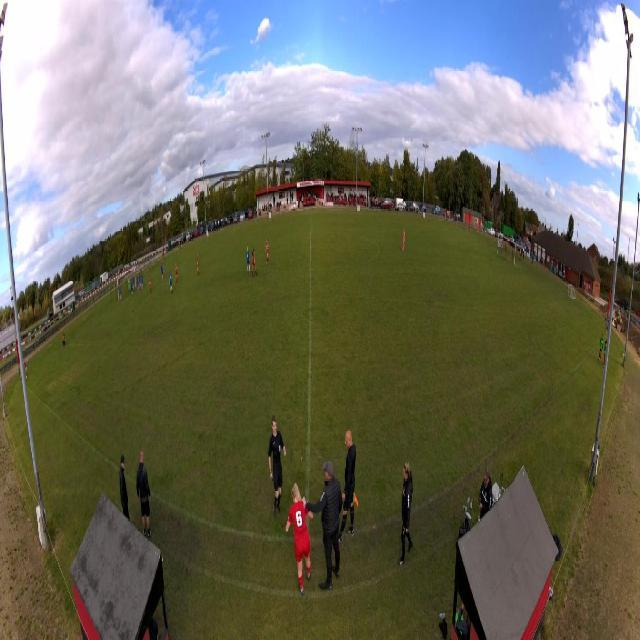ball: (26, 374, 27, 379)
player: (268, 411, 288, 519), (252, 248, 258, 279), (246, 245, 251, 275), (265, 237, 270, 264), (169, 268, 173, 295), (196, 252, 200, 276), (402, 228, 406, 252), (148, 274, 152, 294), (161, 260, 165, 279), (118, 285, 122, 303), (24, 362, 28, 379), (175, 261, 178, 283), (141, 272, 144, 291), (161, 262, 164, 281), (128, 276, 131, 295), (130, 279, 133, 297), (139, 272, 142, 289), (136, 276, 139, 291), (132, 275, 135, 290), (138, 277, 140, 295)
